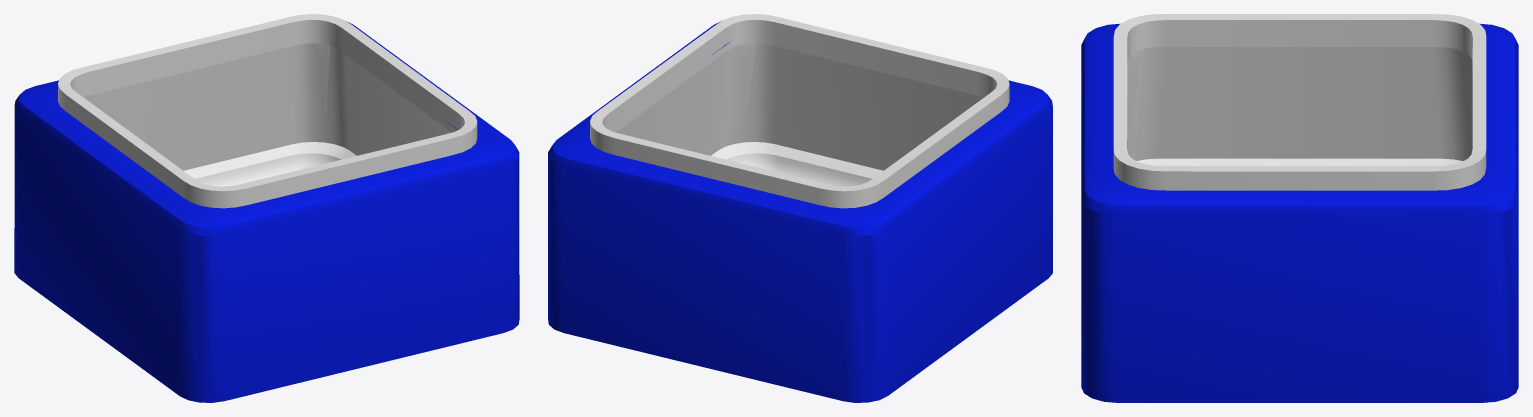
Rendered from package.fbx.
The picture shows the model from 3 angles, left to right: view 1: azimuth 30°, elevation 25°; view 2: azimuth 150°, elevation 25°; view 3: azimuth 270°, elevation 25°; orthographic projection. The views are drawn at different scales.
Visible parts, largest first — view 1: Cube.003; view 2: Cube.003; view 3: Cube.003.
Part boxes in pixels (bbox=[...]): Cube.003: bbox=[14, 14, 519, 402]; Cube.003: bbox=[548, 14, 1052, 402]; Cube.003: bbox=[1081, 14, 1518, 402].
Size of the model in its own units: 239 by 132 by 239.
